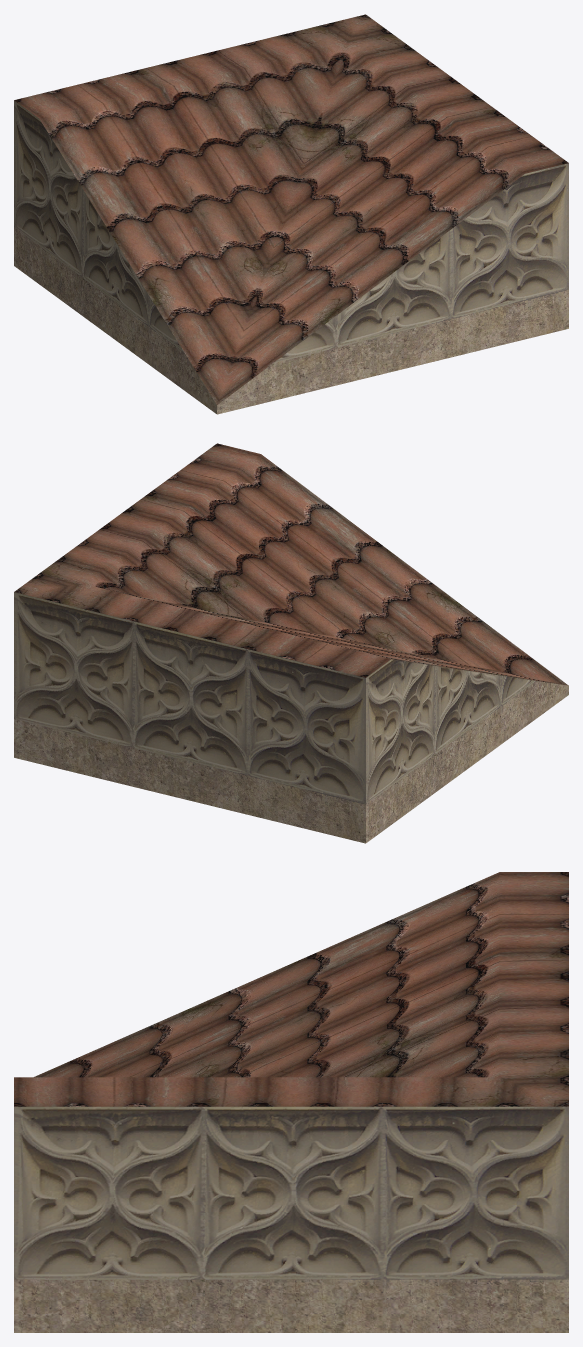
Rendered from SH3D_Sparta_Roof4.obj.
3 renders of one model, top to bottom at view 1: azimuth 30°, elevation 25°; view 2: azimuth 150°, elevation 25°; view 3: azimuth 270°, elevation 25°, orthographic. The views are drawn at different scales.
Visible parts, largest first — view 1: Base_TileRoof0, Base_RoofTrim0; view 2: Base_RoofTrim0, Base_TileRoof0; view 3: Base_RoofTrim0, Base_TileRoof0.
Part boxes in pixels (x1,y1,x2,y2): Base_TileRoof0: [14, 14, 568, 404]; Base_RoofTrim0: [14, 100, 568, 414]; Base_RoofTrim0: [14, 592, 568, 843]; Base_TileRoof0: [14, 443, 568, 685]; Base_RoofTrim0: [14, 1106, 568, 1332]; Base_TileRoof0: [14, 872, 568, 1106].
Size of the model in its own units: 2 by 0.9 by 2.
